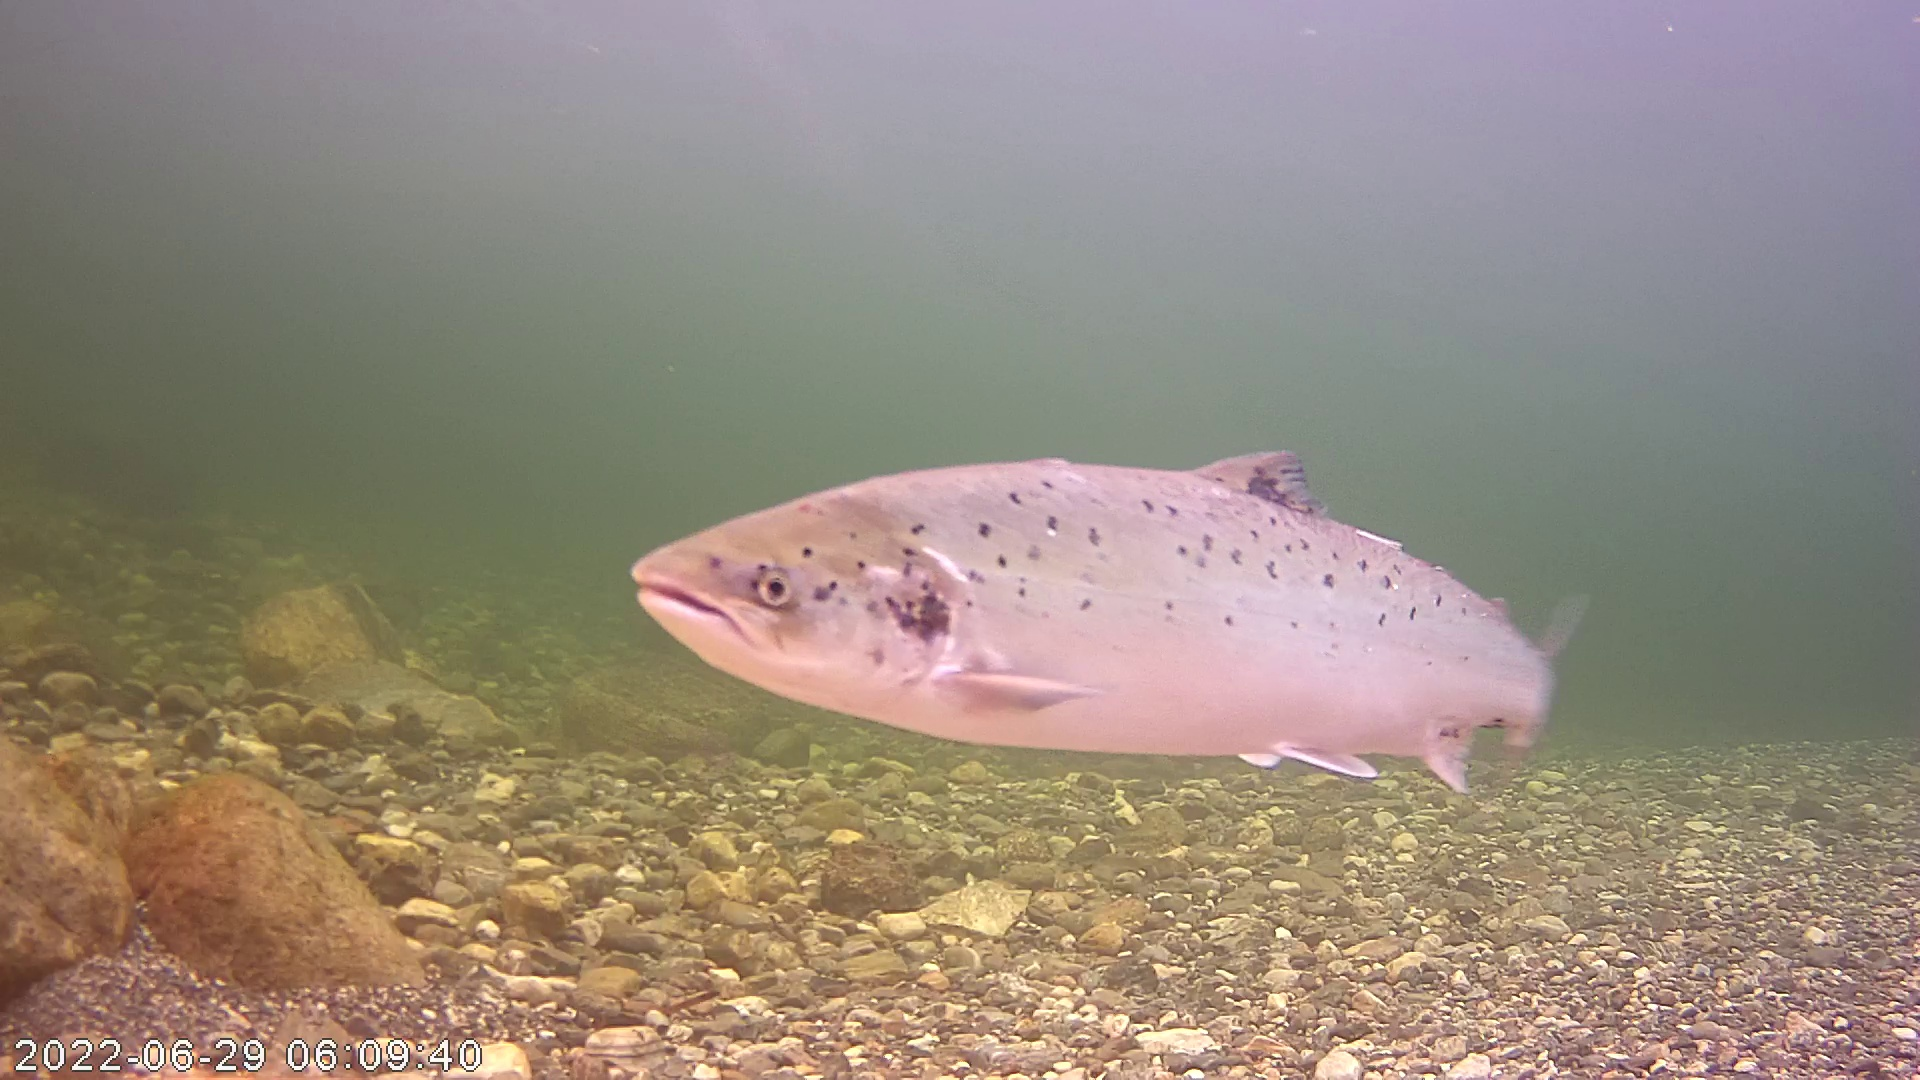salmon: (618, 295, 1589, 781)
